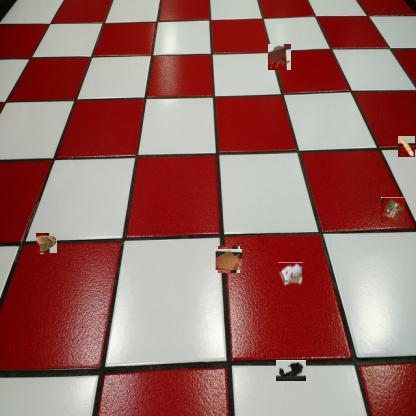dirty: (277, 262, 303, 287), (276, 360, 306, 381), (381, 197, 405, 222), (36, 232, 56, 254), (397, 135, 415, 157)
liquid: (217, 247, 241, 272), (267, 45, 291, 69)
